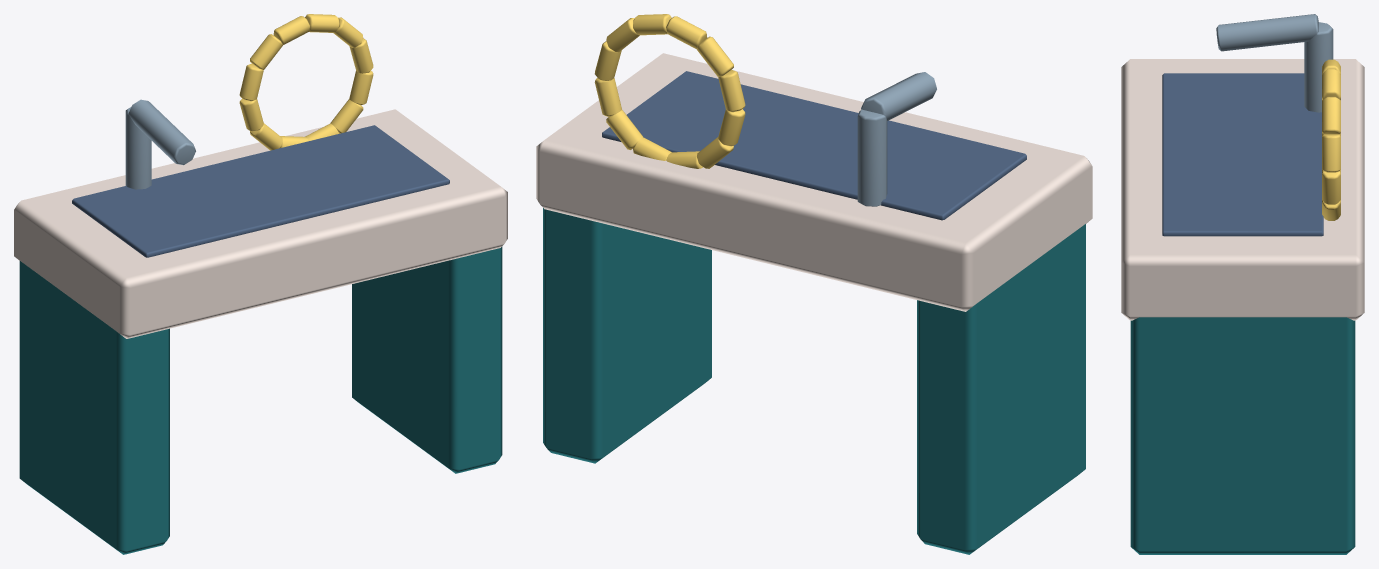
The model's file is fish_wash.glb.
3 views of the same model, side by side, from view 1: azimuth 30°, elevation 25°; view 2: azimuth 150°, elevation 25°; view 3: azimuth 270°, elevation 25° (orthographic). The views are drawn at different scales.
Parts seen in each view (by area): view 1: fish_wash; view 2: fish_wash; view 3: fish_wash.
Boxes of the visible parts, <box> form: fish_wash: <box>14,14,507,554</box>; fish_wash: <box>536,14,1092,554</box>; fish_wash: <box>1121,14,1364,554</box>.
Bounding box in the file's own units: 1.52 × 1.52 × 0.77.
